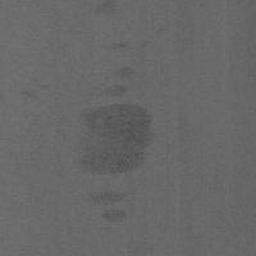Oil spot: (73, 102, 154, 175), (92, 67, 133, 97), (90, 189, 124, 205), (102, 210, 127, 223), (97, 0, 114, 14), (108, 41, 127, 47)
